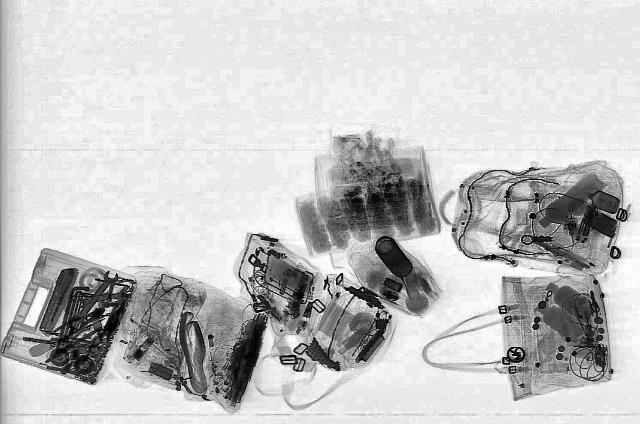Wrench: (62, 269, 122, 331)
